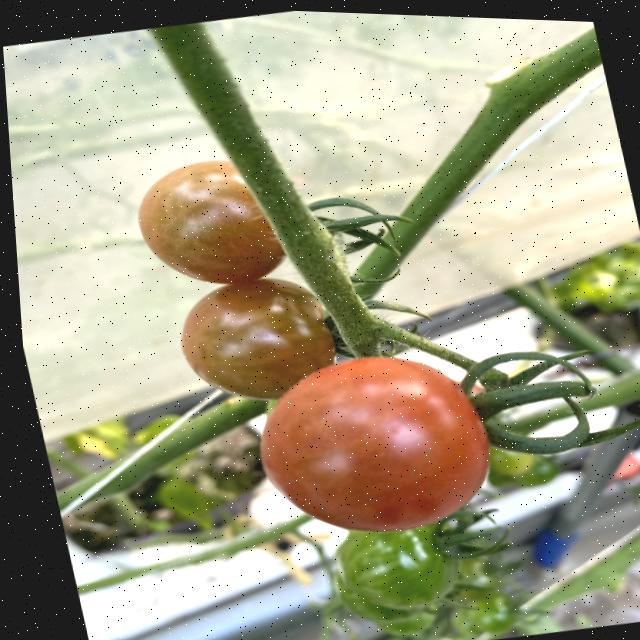ripe1: (170, 274, 343, 395), (127, 155, 279, 292)
ripe2: (247, 344, 509, 546)
